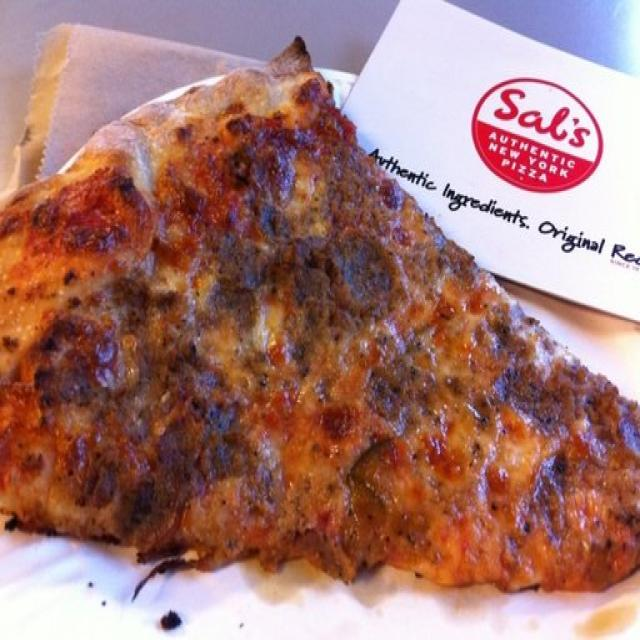Beef: (298, 228, 400, 328), (328, 152, 397, 235), (498, 355, 564, 429), (372, 355, 438, 421), (156, 329, 216, 394), (402, 238, 439, 292)
Pepperoni: (0, 40, 640, 595)
